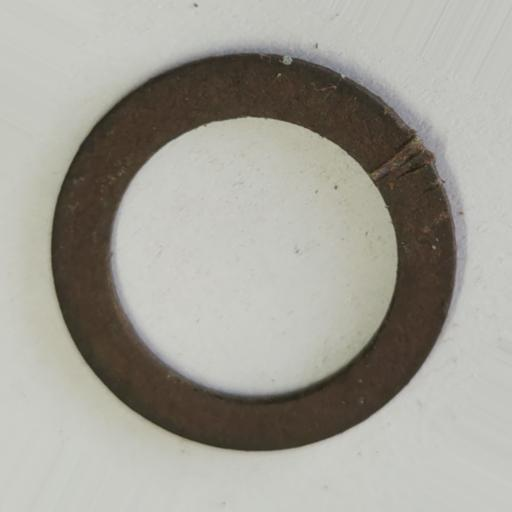defect: (371, 134, 436, 183)
